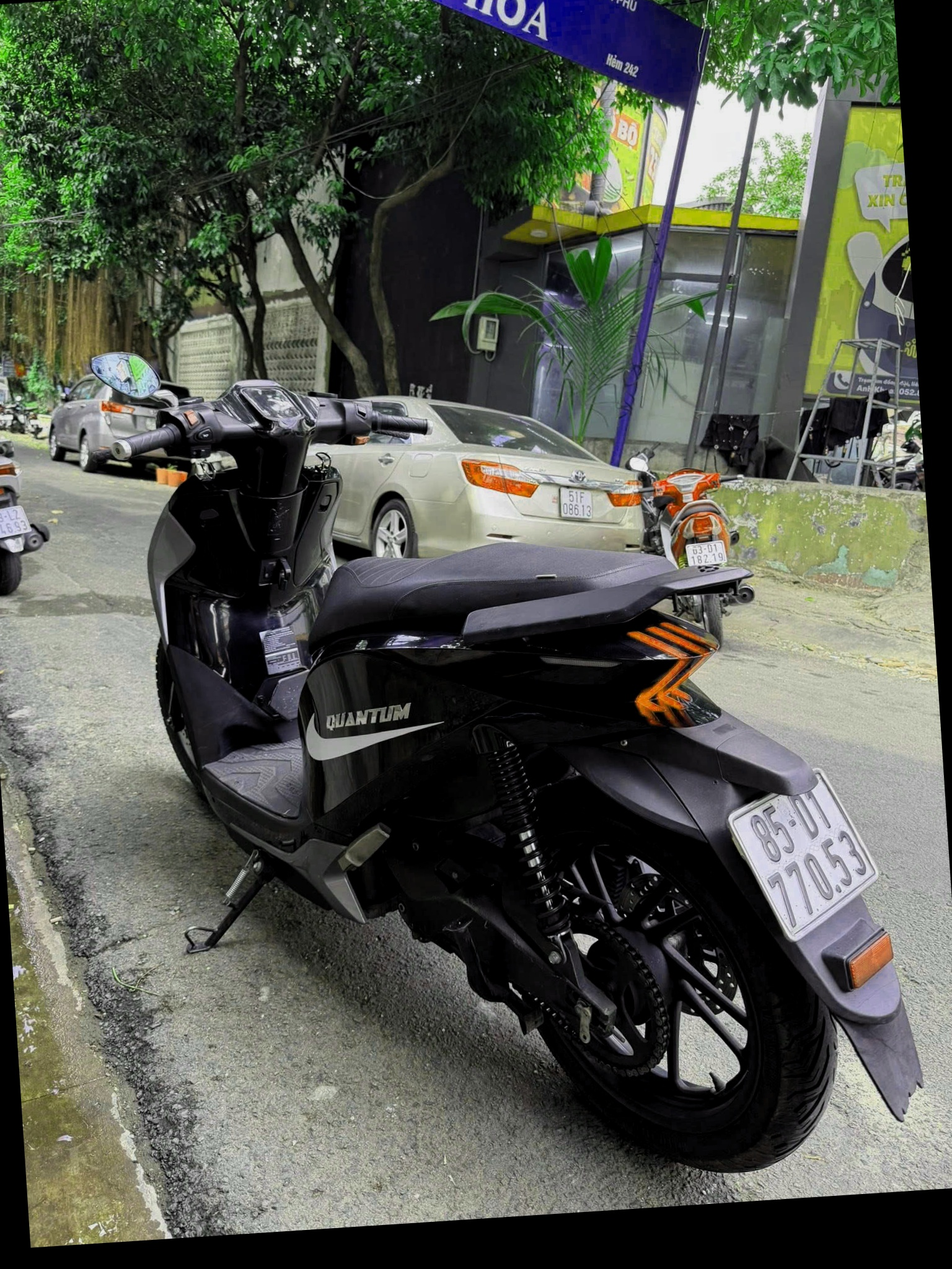Bien-so: (704, 853, 879, 1033), (0, 479, 29, 526), (706, 617, 753, 645), (582, 543, 614, 578)
